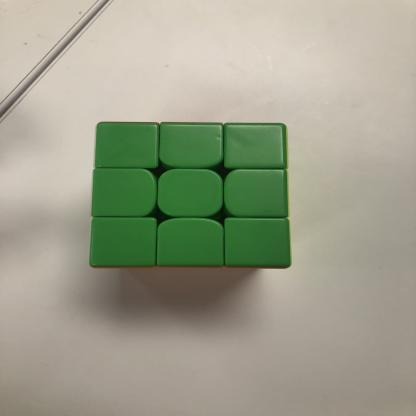SolvedCube: (81, 112, 310, 286)
